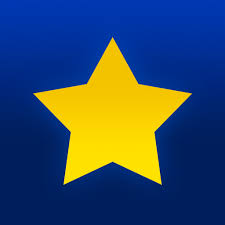star: (30, 35, 197, 192)
